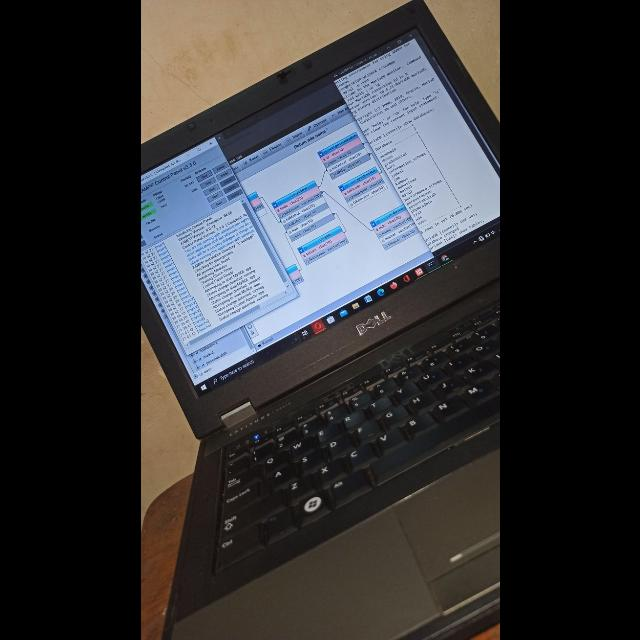laptop: (140, 0, 499, 640)
